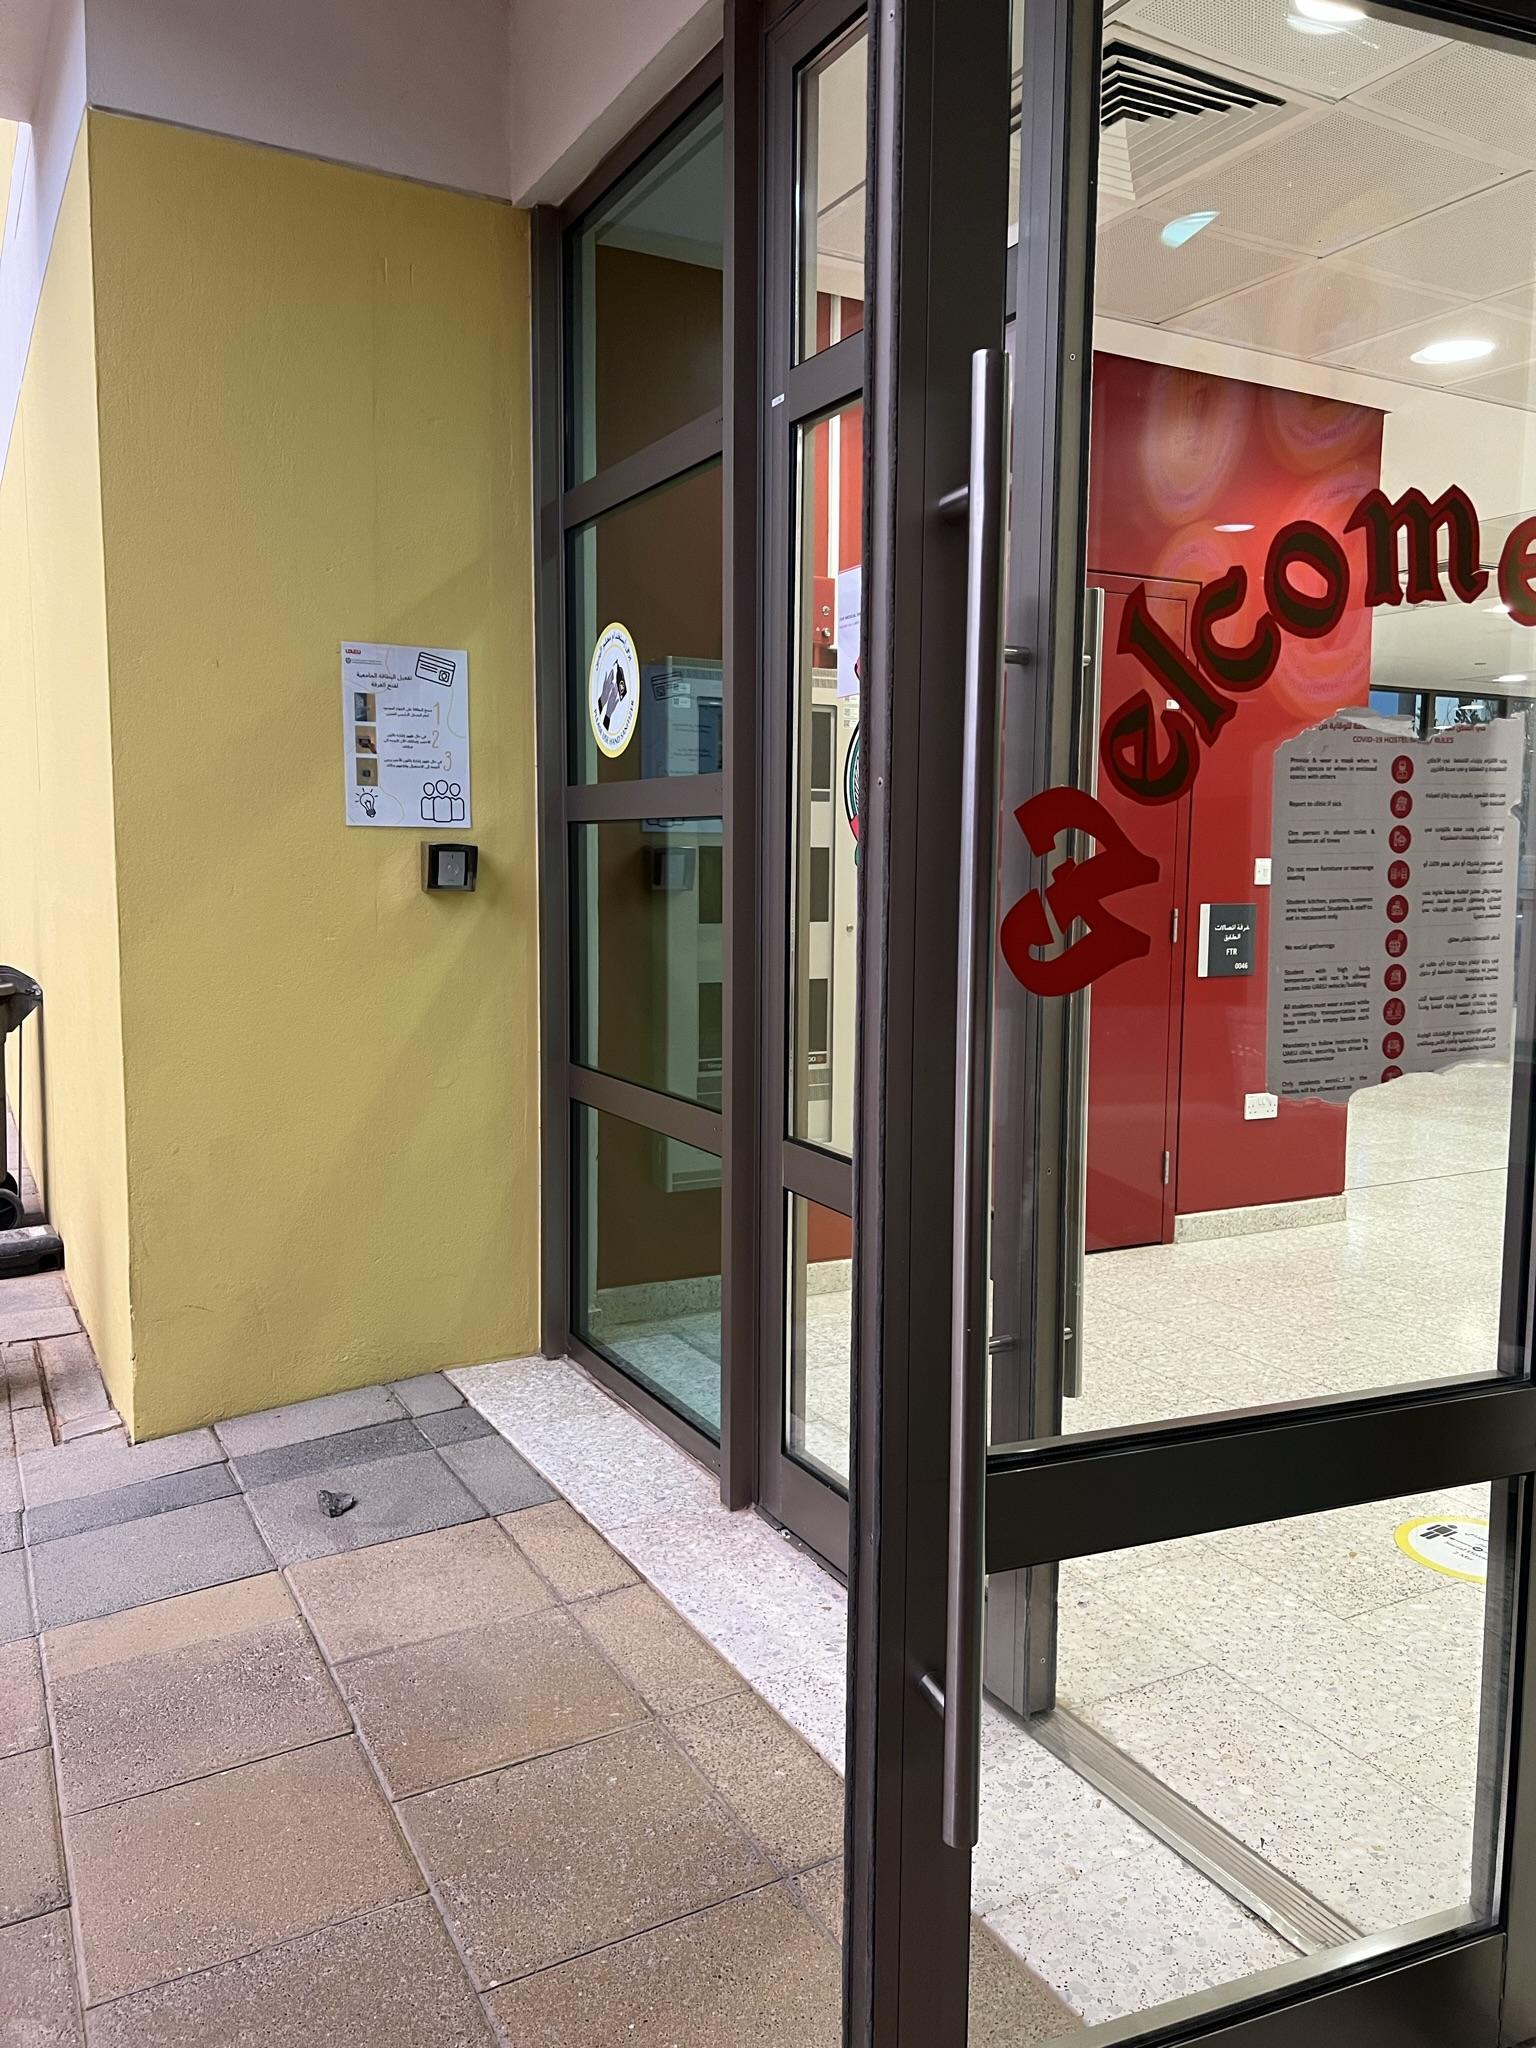door: (895, 0, 1536, 2048)
handle: (921, 326, 984, 1882)
